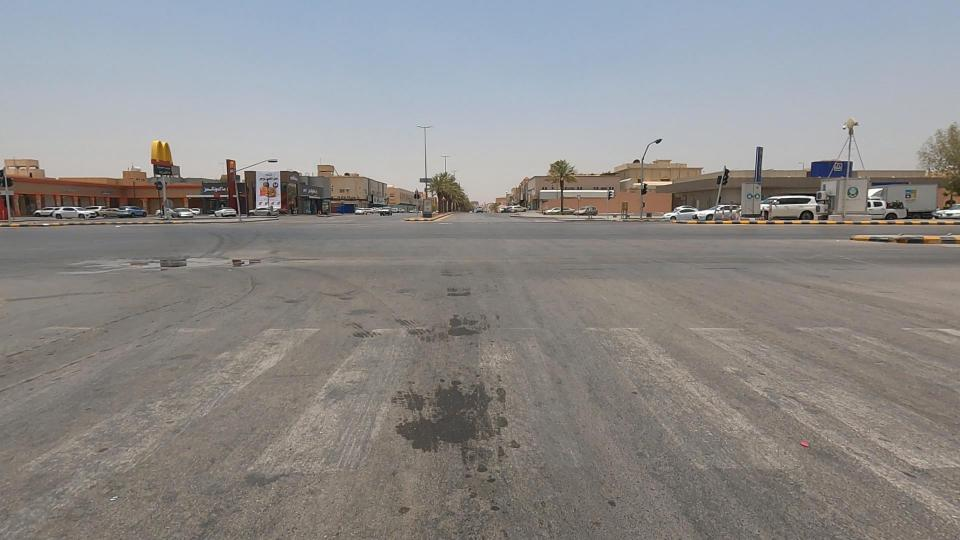POTHOLES: (144, 230, 304, 303)
